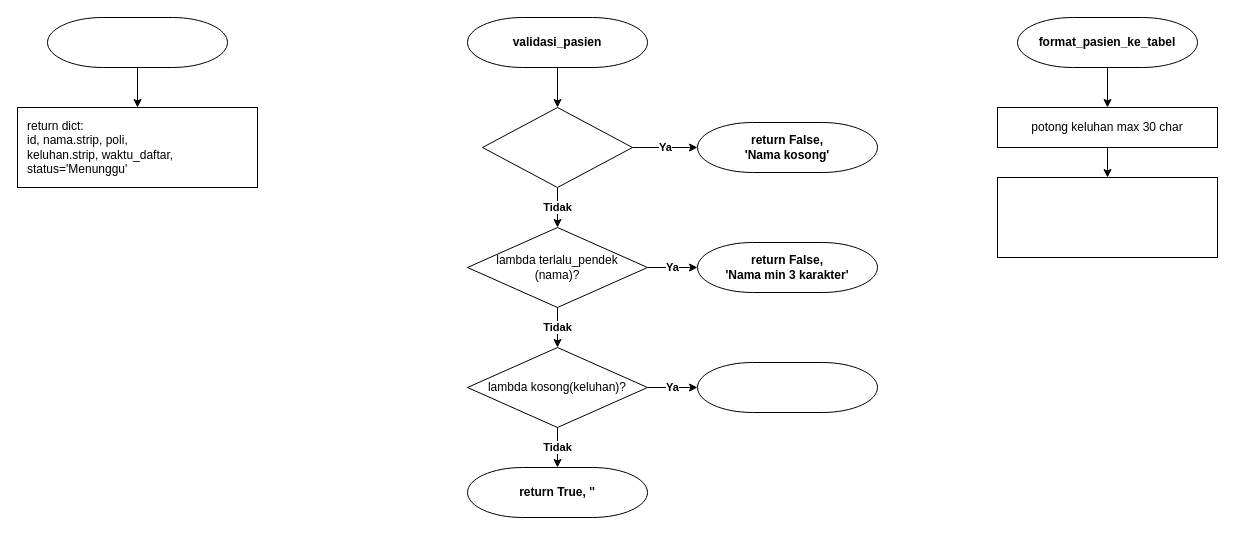
The diagram is 1235 pixels wide and 535 high, and some of its shapes have lost their labels. The centre of each missing label's shape, as x and y in pixels:
buat_pasien: the point at 137,42
lambda kosong(nama)?: the point at 557,147
return dict: ID, Nama, Poli, Keluhan, Waktu Daftar, Status: the point at 1107,217
return False, 'Keluhan kosong': the point at 787,387
